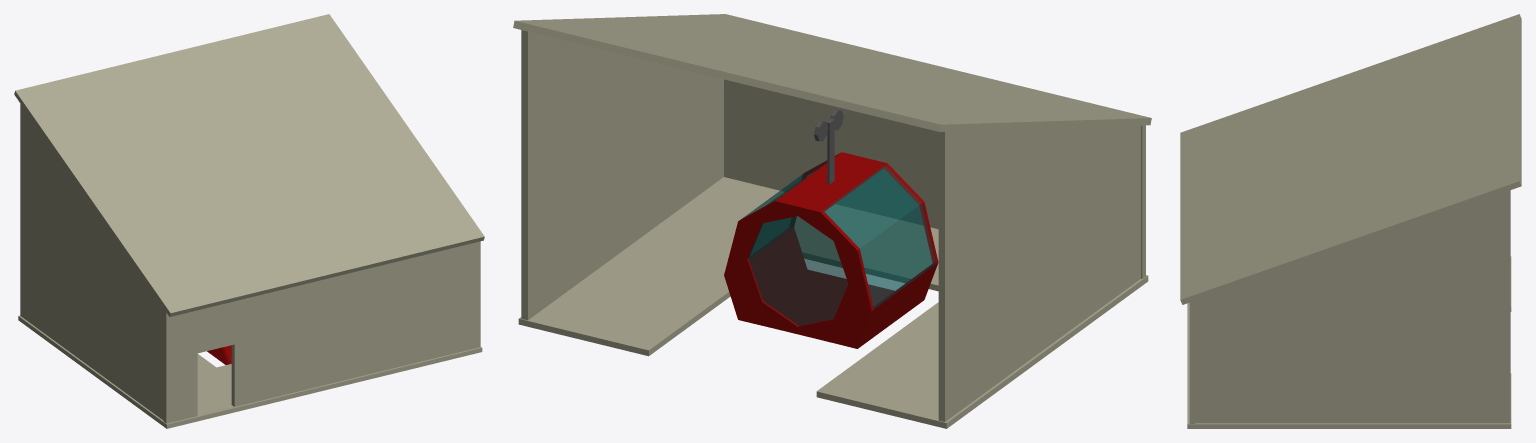
File: Cart.fbx
3 renders of one model, left to right at view 1: azimuth 30°, elevation 25°; view 2: azimuth 150°, elevation 25°; view 3: azimuth 270°, elevation 25°, orthographic. The views are drawn at different scales.
Parts seen in each view (by area): view 1: pCube10; view 2: pCube10, Cart1; view 3: pCube10.
Boxes of the visible parts, x1,y1,x2,y2 form: pCube10: [14, 14, 484, 428]; pCube10: [513, 14, 1151, 428]; Cart1: [724, 110, 938, 348]; pCube10: [1180, 14, 1521, 428].
Size of the model in its own units: 11.08 by 7.75 by 9.52.
